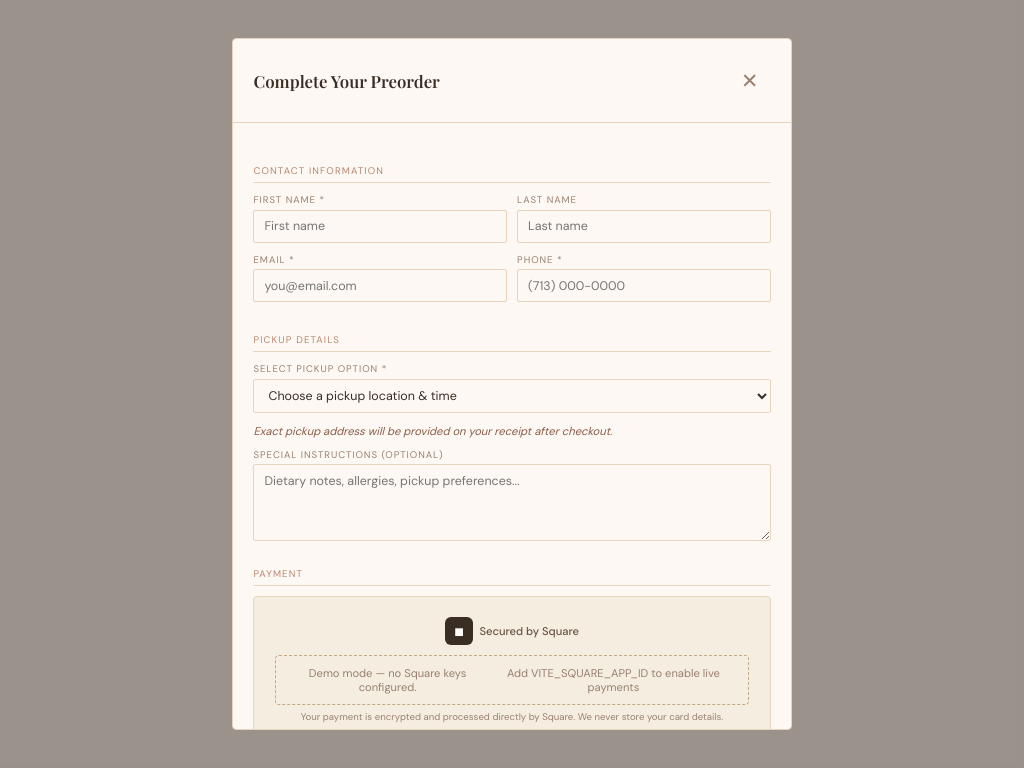
Test: CheckoutModal – validation unit tests › invalid email shows "Enter a valid email"
Step 1. Type "Jane" into the field with placeholder "First name" → (380, 226), box [254,210,507,243]
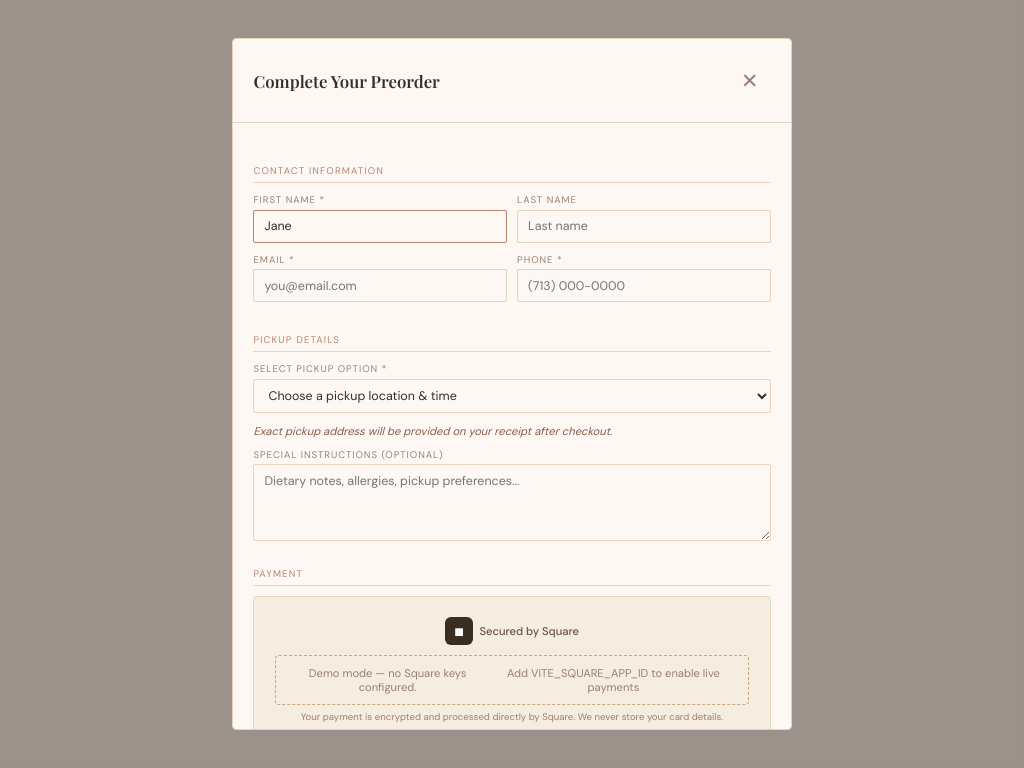
Step 2. Type "not-an-email" into the field with placeholder "you@email.com" → (380, 286), box [254,269,507,302]
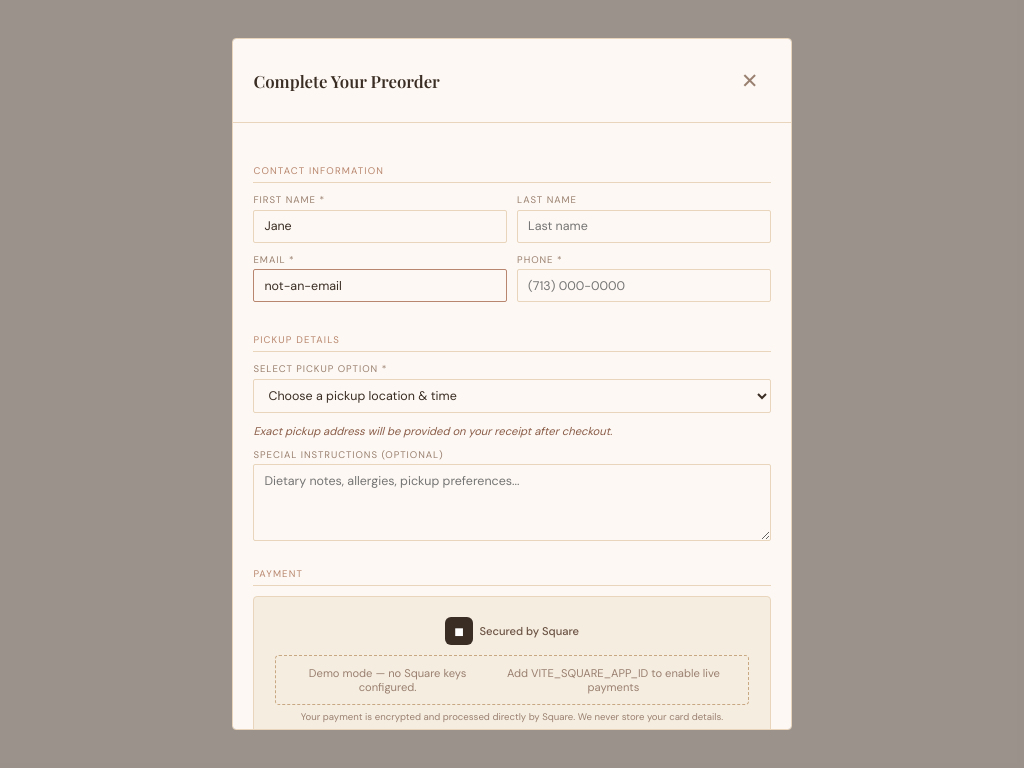
Step 3. Type "7135551234" into the field with placeholder "(713) 000-0000" → (644, 286), box [517,269,770,302]
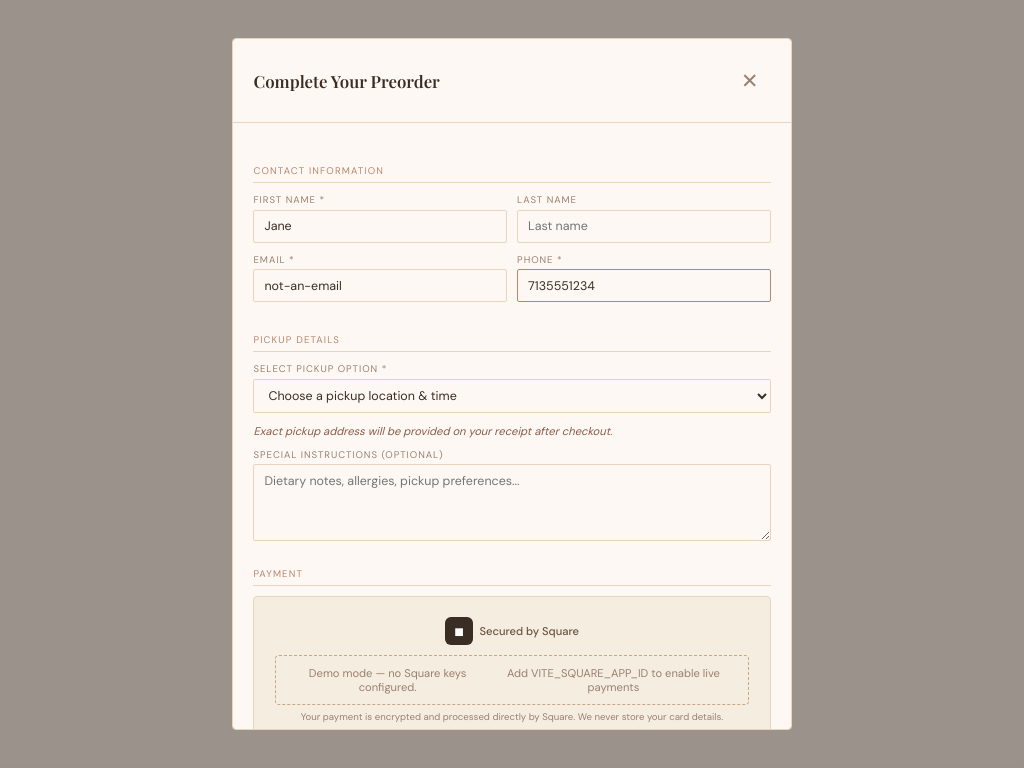
Step 4. Select "Spring, TX 77068 — Sunday 4/19 at 3:00 PM" in the dropdown → (512, 396), box [254,378,771,414]
(page scrolled)
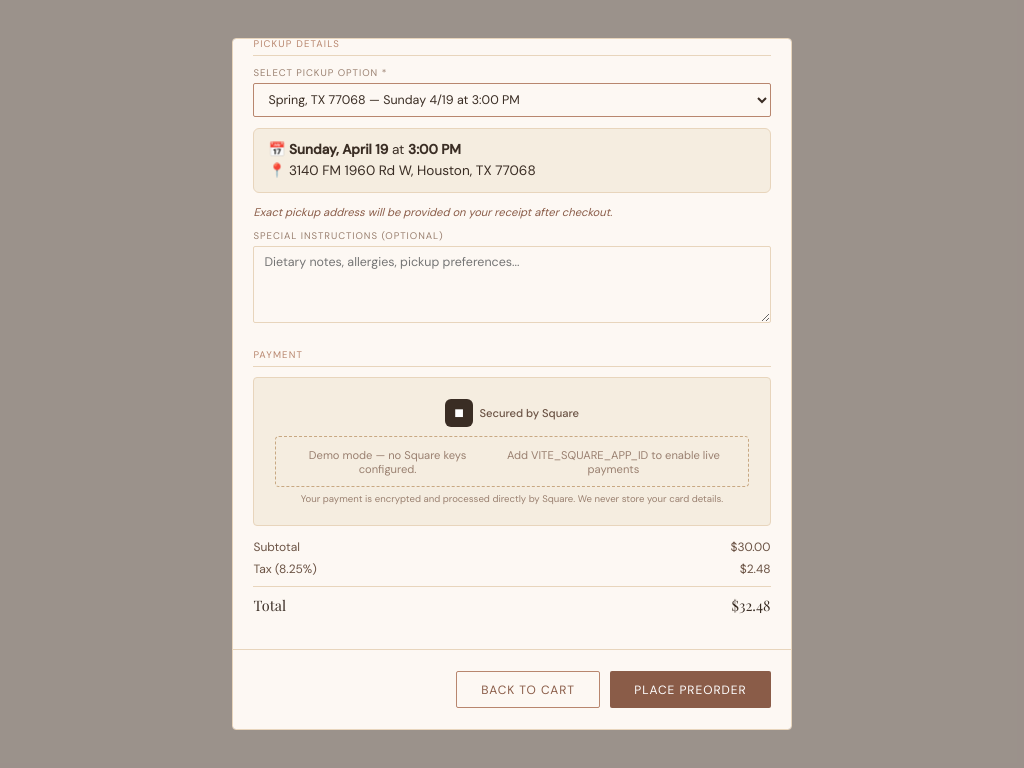
Step 5. Click the button "Place Preorder" → (690, 690), box [610,671,771,708]
(page scrolled)
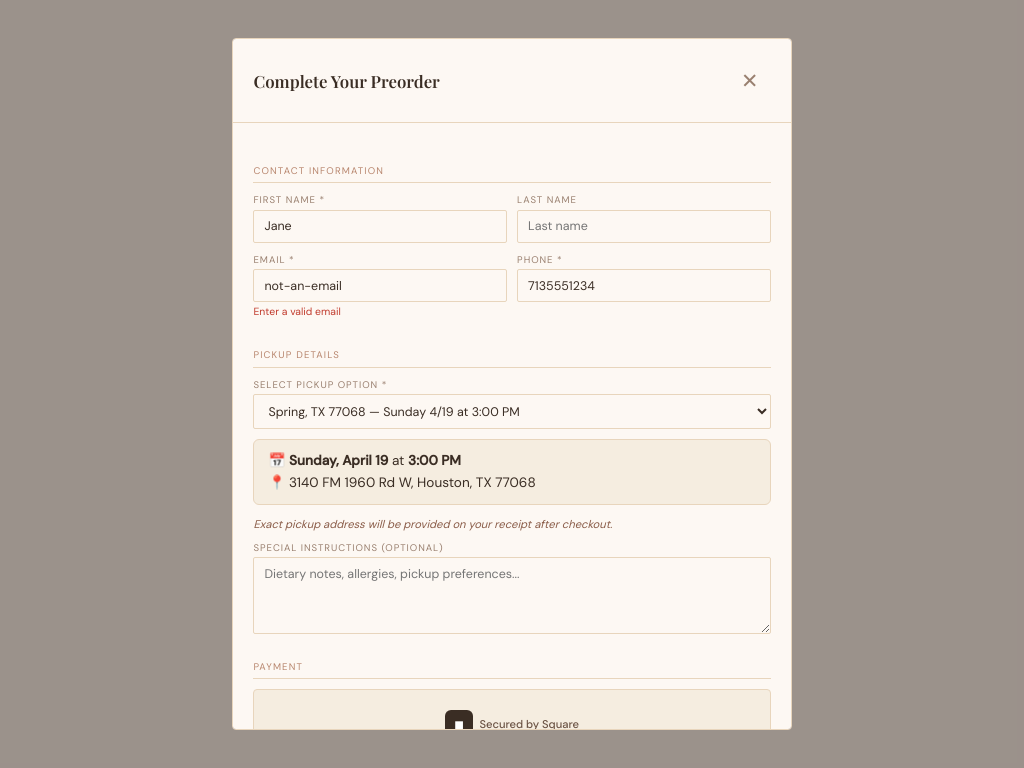
expect the text "Enter a valid email" is shown: met, box [254,305,341,318]
